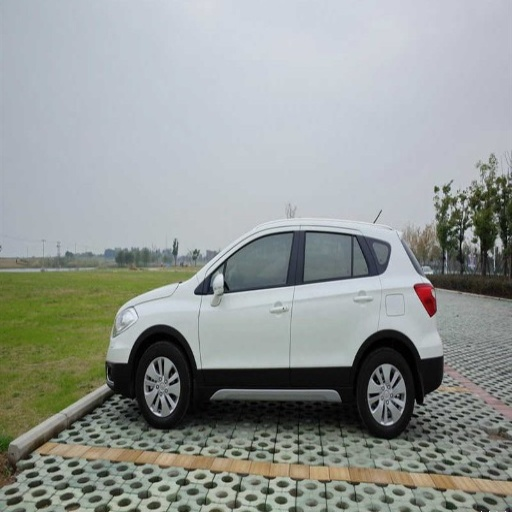back_left_door: (291, 228, 382, 387)
front_left_door: (198, 228, 298, 387)
